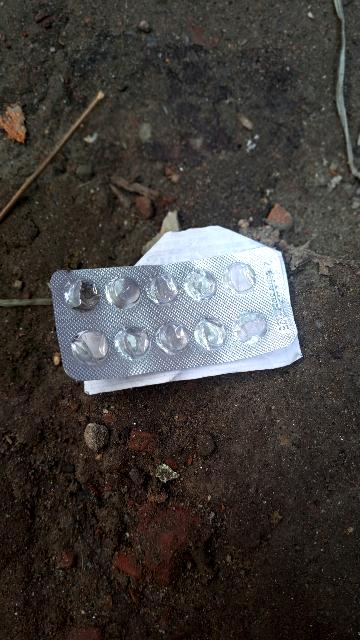medicine: (52, 243, 299, 379)
